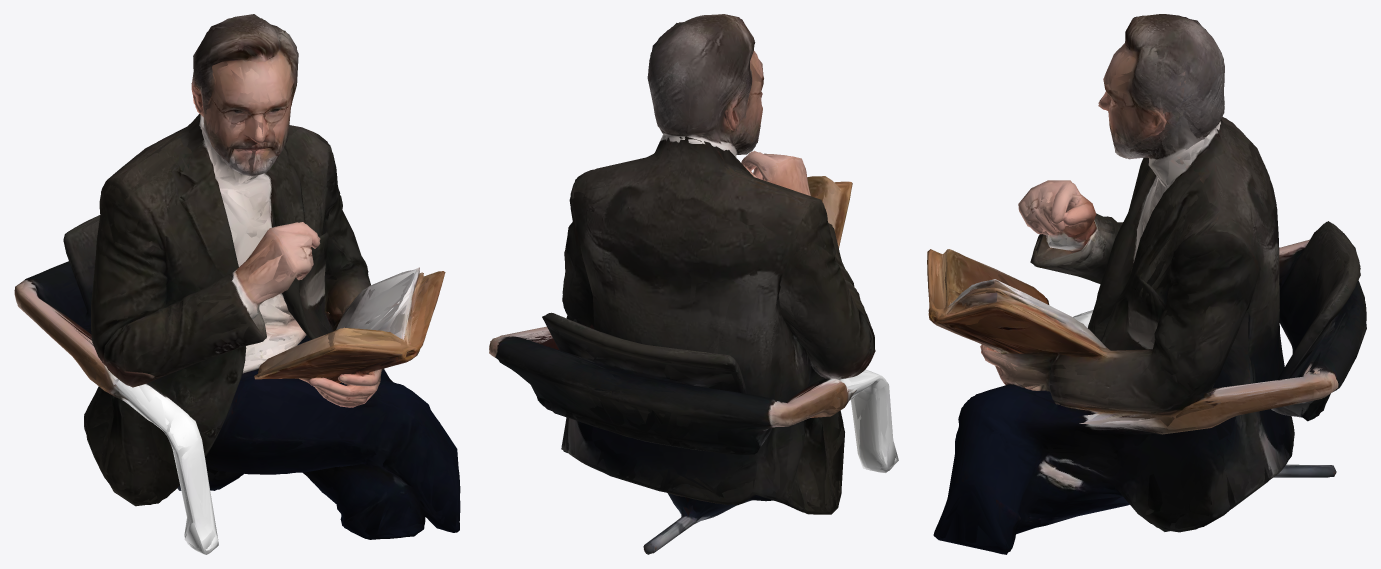
The model's file is professor-math.glb.
3 renders of one model, left to right at view 1: azimuth 30°, elevation 25°; view 2: azimuth 150°, elevation 25°; view 3: azimuth 270°, elevation 25°, orthographic. The views are drawn at different scales.
Parts seen in each view (by area): view 1: model_LOD0; view 2: model_LOD0; view 3: model_LOD0.
Boxes of the visible parts, x1,y1,x2,y2 form: model_LOD0: [14, 14, 460, 554]; model_LOD0: [489, 14, 898, 554]; model_LOD0: [927, 14, 1366, 554].
Size of the model in its own units: 1.26 by 1.9 by 1.61.
1 material, 1 textured.
